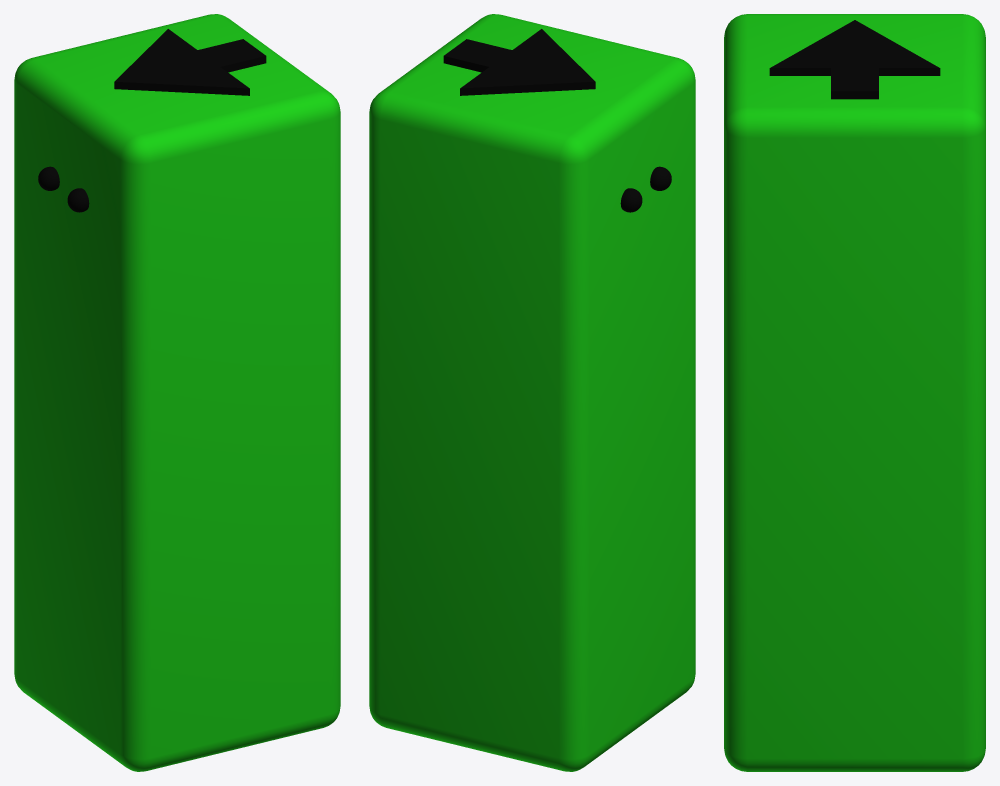
3 renders of one model, left to right at view 1: azimuth 30°, elevation 25°; view 2: azimuth 150°, elevation 25°; view 3: azimuth 270°, elevation 25°, orthographic. The views are drawn at different scales.
Visible parts, largest first — view 1: Cube.018_Cube.002_Material.001, Cube.018_Cube.002_SVGMat; view 2: Cube.018_Cube.002_Material.001, Cube.018_Cube.002_SVGMat; view 3: Cube.018_Cube.002_Material.001, Cube.018_Cube.002_SVGMat.
Boxes of the visible parts, <box> form: Cube.018_Cube.002_Material.001: <box>14,14,340,771</box>; Cube.018_Cube.002_SVGMat: <box>38,29,266,212</box>; Cube.018_Cube.002_Material.001: <box>369,14,695,771</box>; Cube.018_Cube.002_SVGMat: <box>443,29,671,212</box>; Cube.018_Cube.002_Material.001: <box>724,14,985,771</box>; Cube.018_Cube.002_SVGMat: <box>769,20,940,99</box>.
Size of the model in its own units: 0.1904 by 0.5061 by 0.1785.
